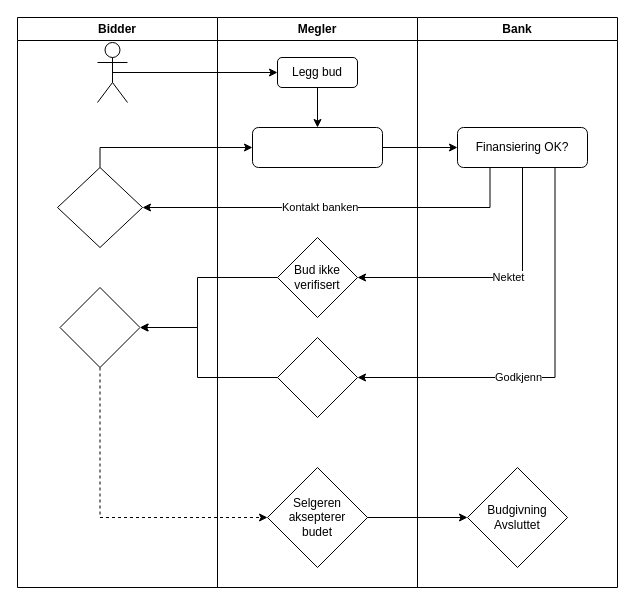
This 635x605 diagram has some shape labels left out. Each missing label, with the box of its shape:
Bud verifisert: (276, 336, 358, 418)
Ferdig: (59, 286, 140, 368)
Kontakter Banken: (56, 166, 142, 248)
Verifiser finansiering: (252, 126, 382, 168)
